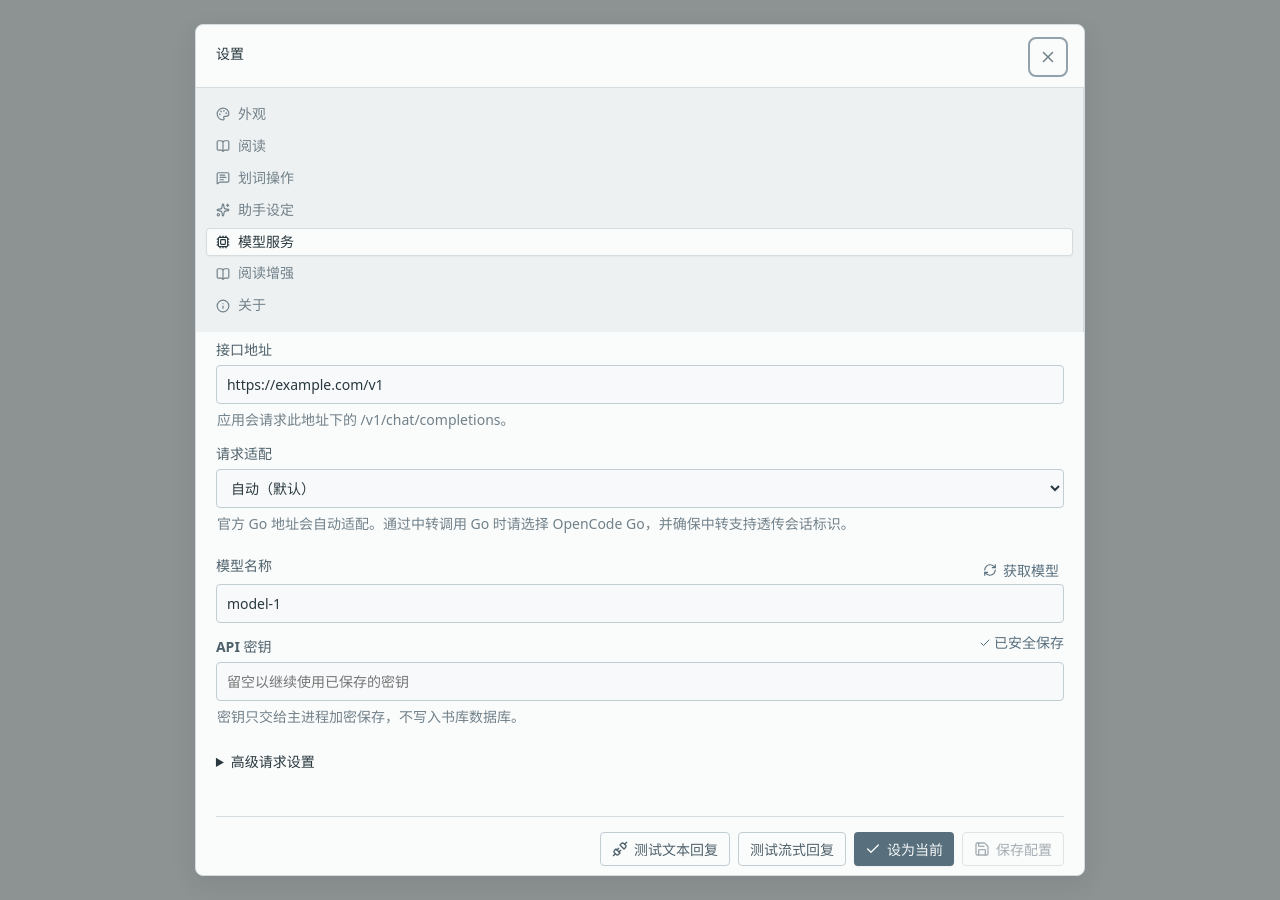
Test case: preserves the draft and current profile if saving fails before activation
(page scrolled)
Replace the text in the dropdown with test id "provider-model" with "unsaved-model": point(640, 604) left=216, top=584, right=1064, bottom=623
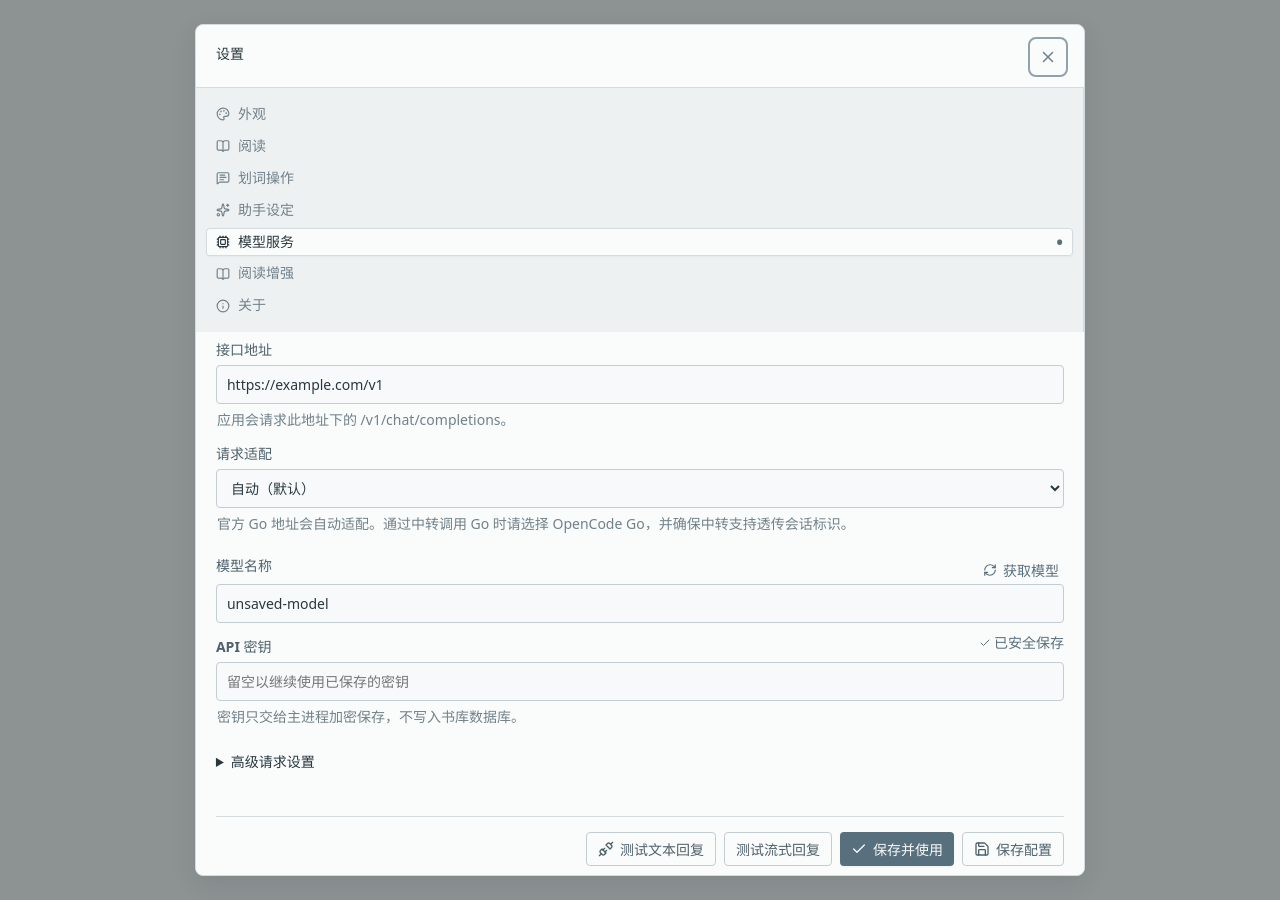
Click the button with test id "provider-activate": point(897, 849) left=840, top=832, right=954, bottom=866
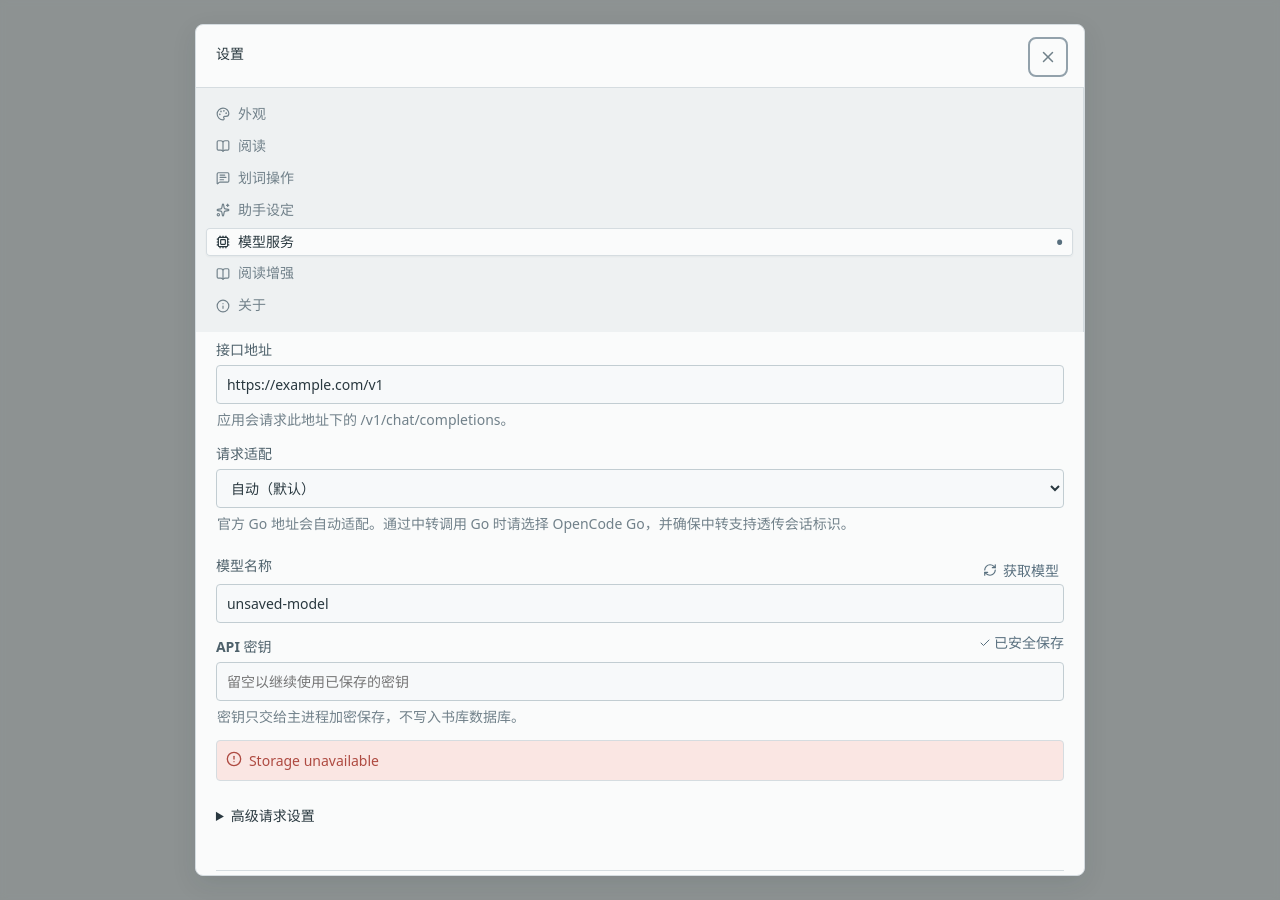
Check: the message with test id "provider-status" reads "Storage unavailable", box left=249, top=751, right=379, bottom=770
